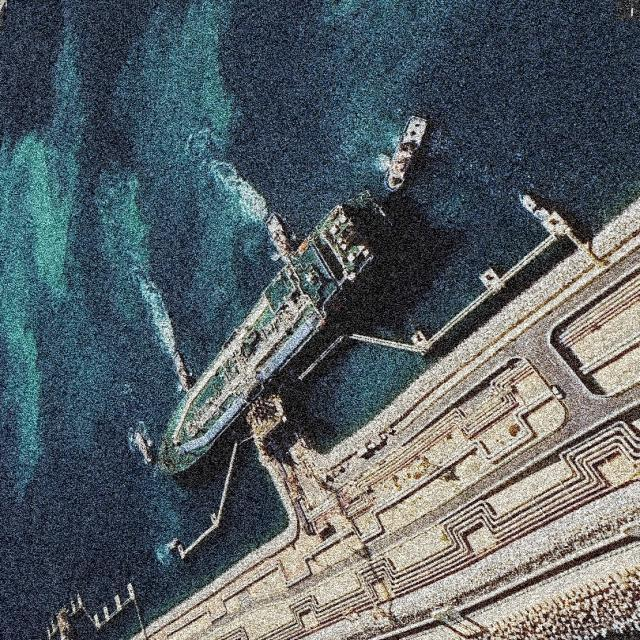ship2: (153, 206, 373, 479), (373, 115, 431, 200)
